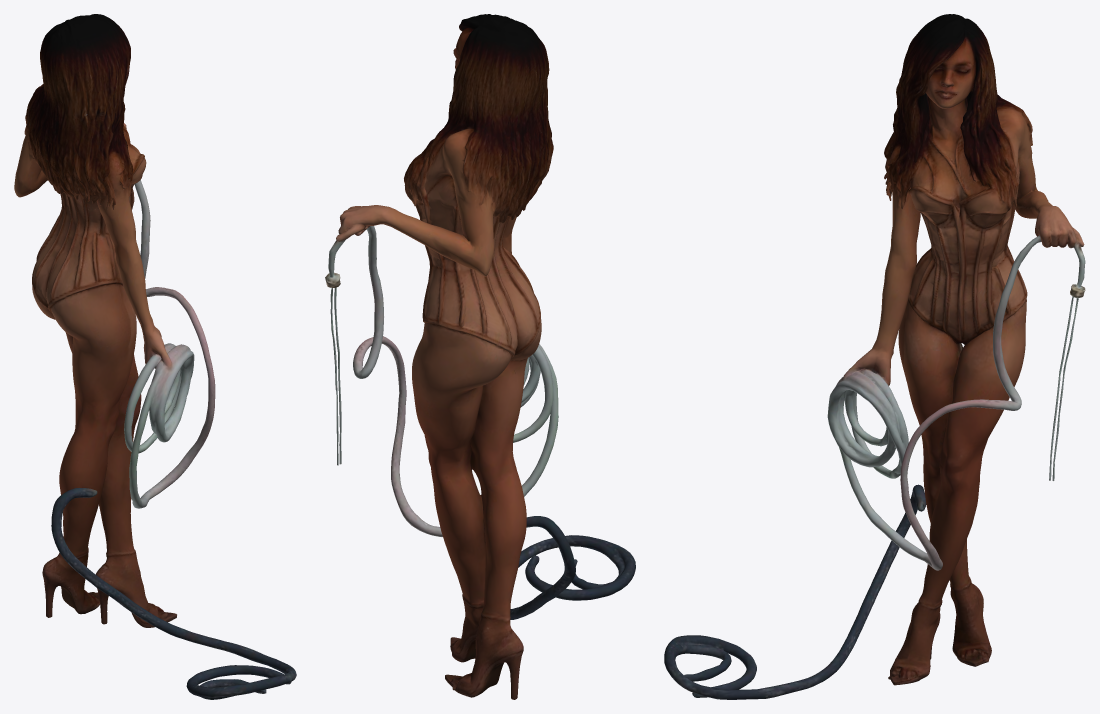
File: TYLA_1.glb
3 renders of one model, left to right at view 1: azimuth 30°, elevation 25°; view 2: azimuth 150°, elevation 25°; view 3: azimuth 270°, elevation 25°, orthographic. The views are drawn at different scales.
Parts seen in each view (by area): view 1: tripo_node_42548450-7d45-4659-b3d1-d6738a53d497; view 2: tripo_node_42548450-7d45-4659-b3d1-d6738a53d497; view 3: tripo_node_42548450-7d45-4659-b3d1-d6738a53d497.
Part boxes in pixels (x1,y1,x2,y2): tripo_node_42548450-7d45-4659-b3d1-d6738a53d497: (14,14,296,699); tripo_node_42548450-7d45-4659-b3d1-d6738a53d497: (325,14,635,699); tripo_node_42548450-7d45-4659-b3d1-d6738a53d497: (664,14,1085,699).
Size of the model in its own units: 0.278 by 1 by 0.6009.
1 material, 1 textured.
